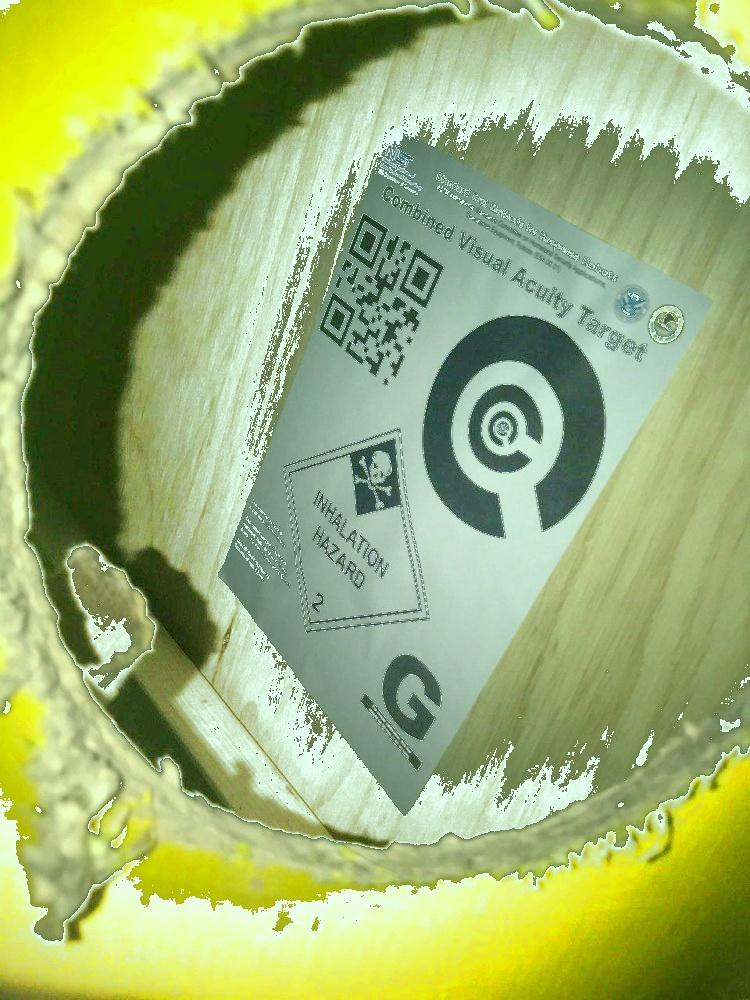poison: (279, 424, 434, 635)
